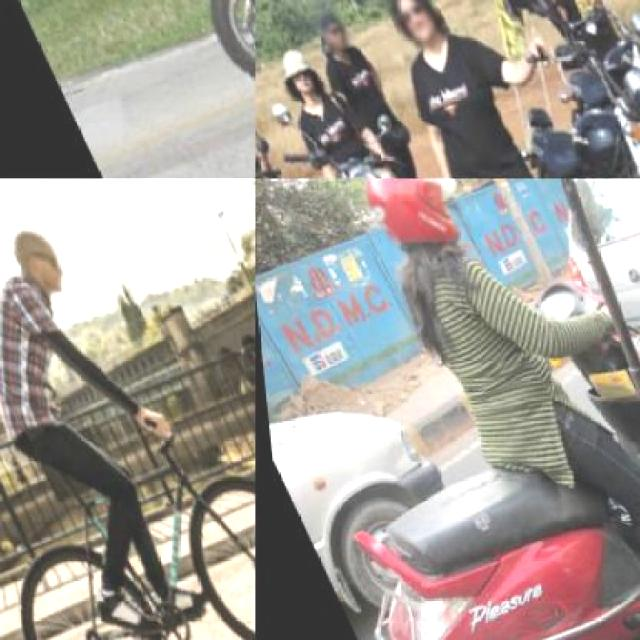With Helmet: (340, 178, 482, 270)
Without Helmet: (0, 217, 74, 306), (369, 0, 450, 58), (264, 40, 319, 103), (303, 4, 352, 58)
